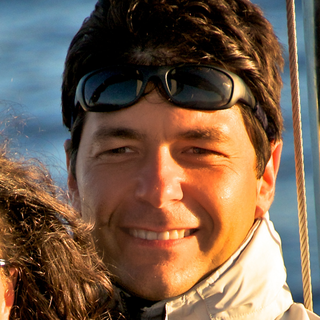eye: (178, 143, 227, 165), (99, 141, 143, 163)
